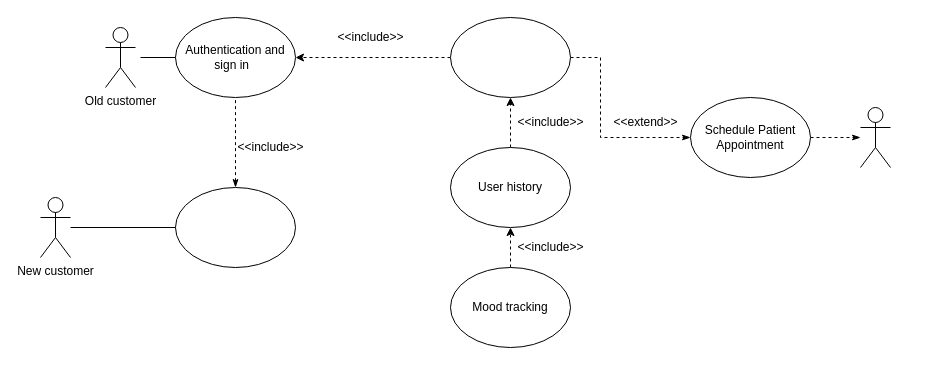
Some shapes in this 942 by 365 pixel diagram are drawn without their labels. The shapes that lost their labels are listed below. From the top down, each one's centre as x and y in pixels, then its label:
the point at 510,57: Interaction between user and bot
the point at 875,137: Consulting doctors
the point at 235,227: Registration
